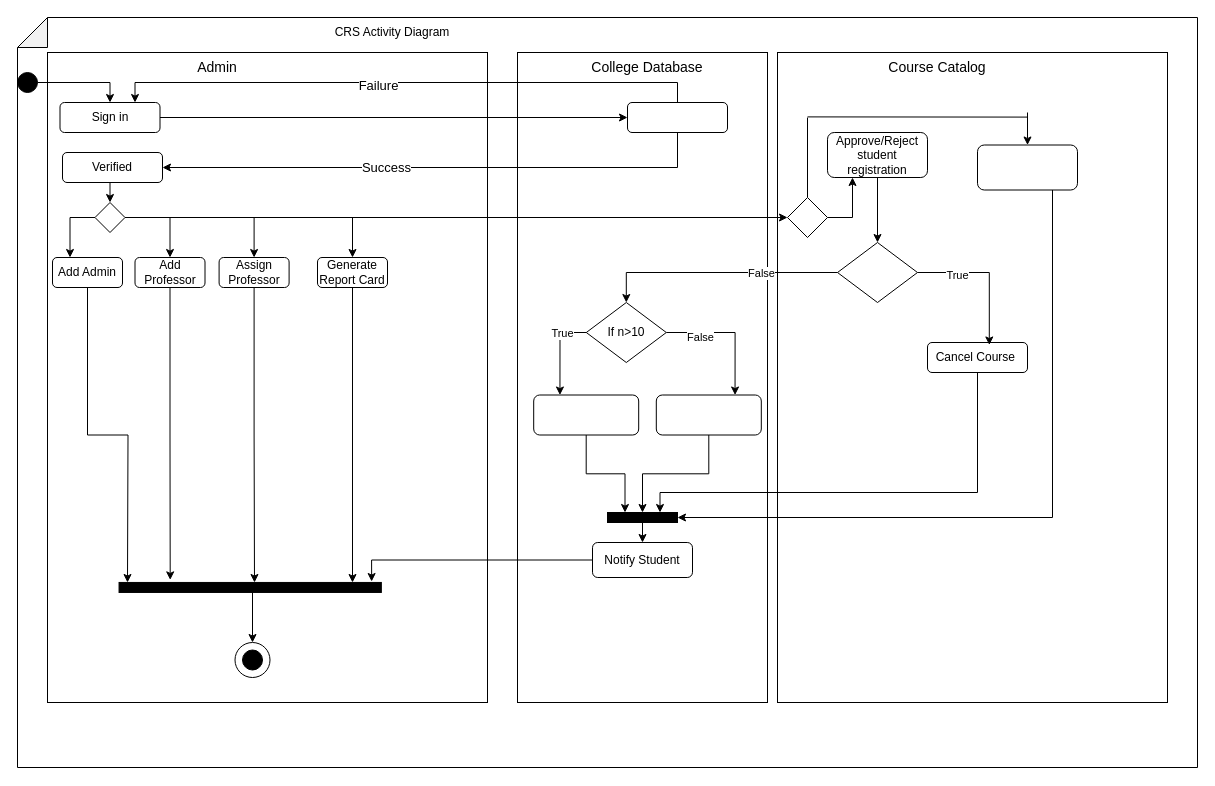
This 1215x786 diagram has some shape labels left out. The box of each missing label's shape, as (x1, y1, x2, y2) in pixels:
Add new course to catalog: (976, 144, 1078, 190)
Approve Student Registration: (655, 394, 761, 435)
If n<3: (836, 242, 918, 302)
Reject Student Registration: (533, 394, 639, 435)
Verify Credentials: (626, 102, 728, 132)
